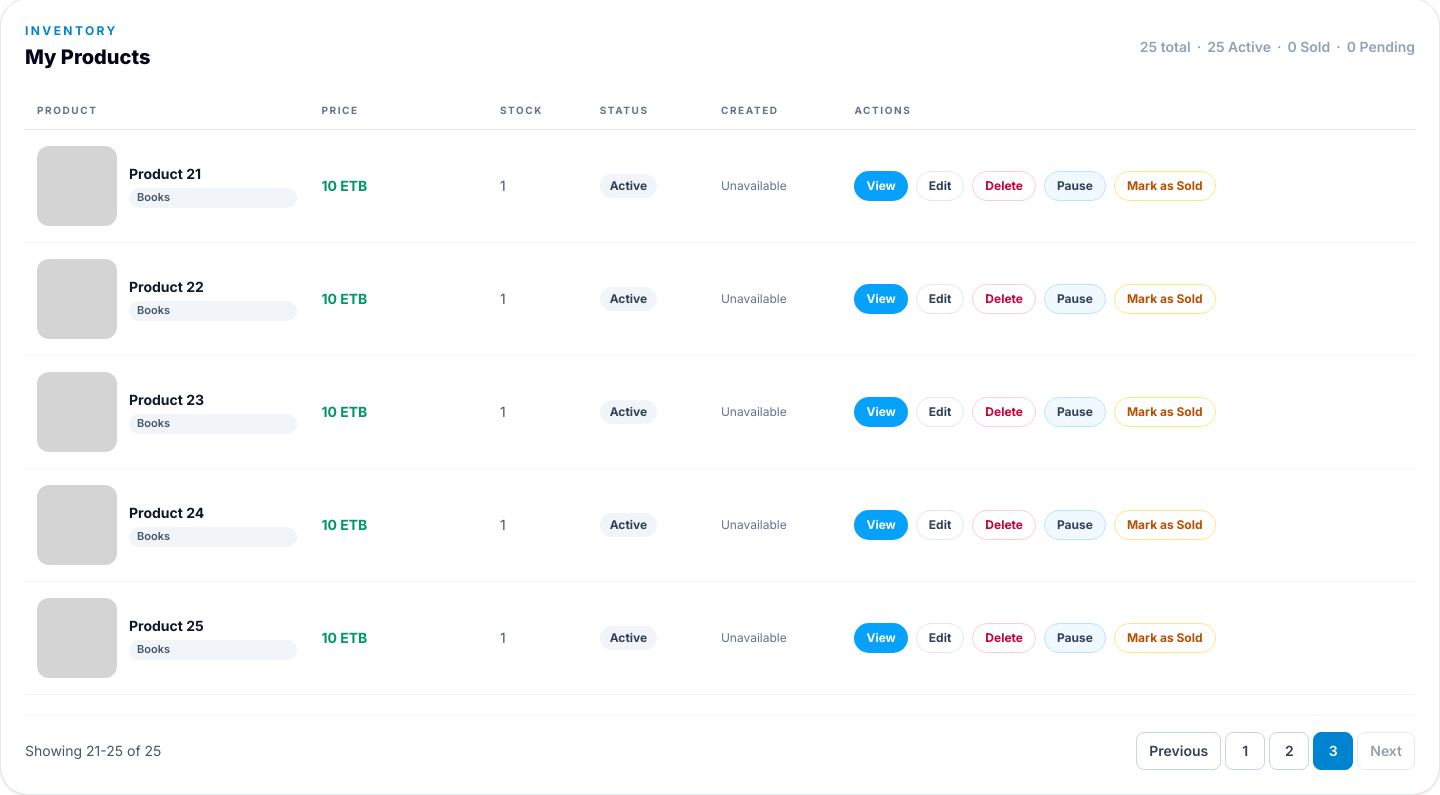
Test case: SellerOperationsCenter product pagination › moves to the previous page when deleting the final product page
This screenshot has width=1440, height=795.
(page scrolled)
Expected: the text "Product 25" is shown, [129,617,204,634]
Click the button "Delete" in the row of "Product 25". click: point(1004, 638)
box: [972,623,1036,653]
(page scrolled)
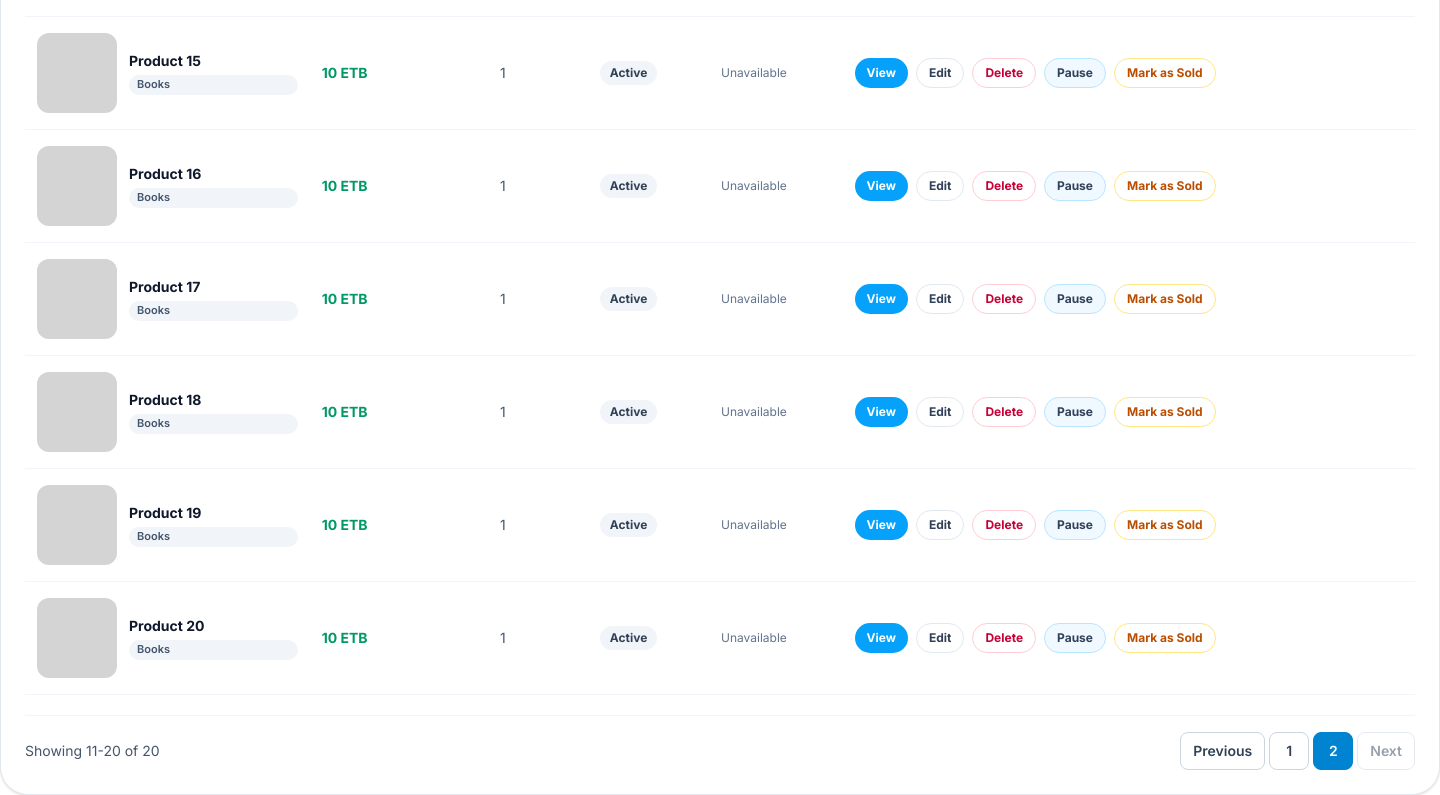
Now the text "Product 20" is shown, box [129,617,204,634]
